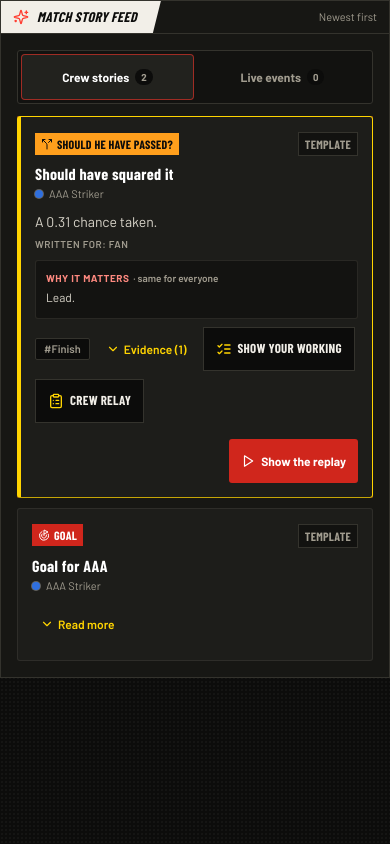
Test: NarrativeFeed › folds older cards to their headline on phones and opens them on tap
What coordinates should you click on to do the following:
click the button with test id "card-expand"
I would click on:
 (77, 624)
Its box is left=32, top=602, right=122, bottom=646.
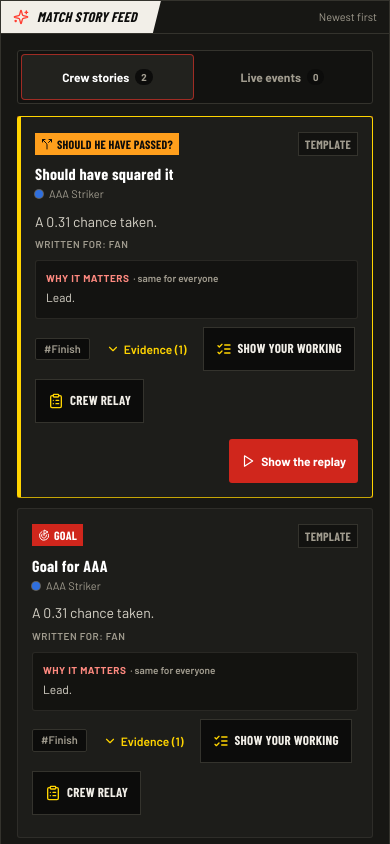
Expected: the button with test id "card-expand" is gone
